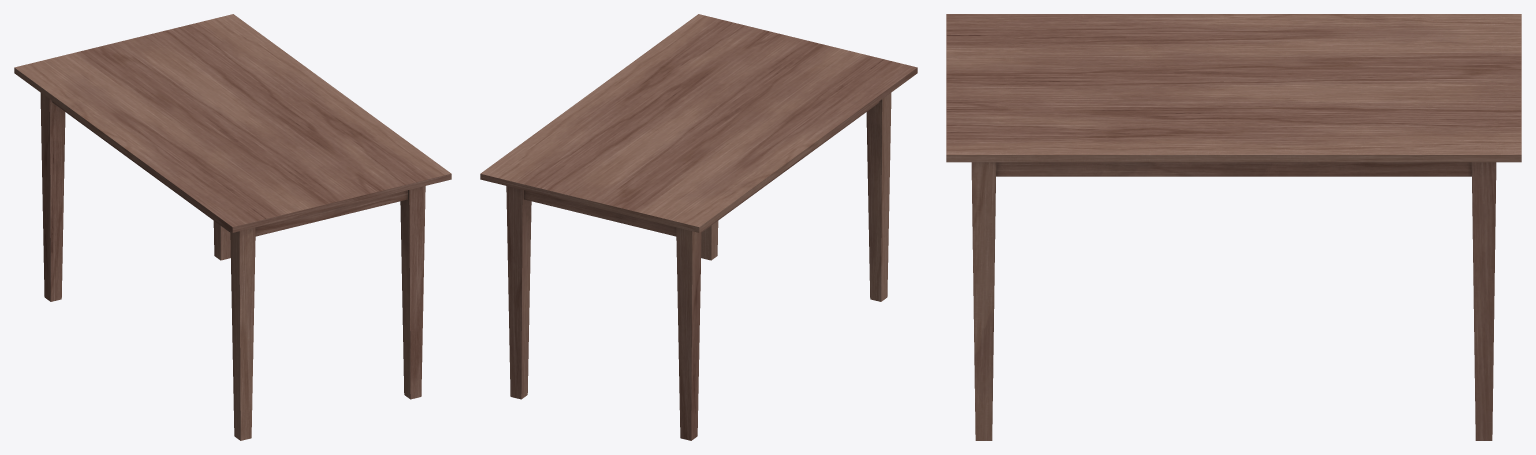
Rendered from rectangle_table.glb.
3 views of the same model, side by side, from view 1: azimuth 30°, elevation 25°; view 2: azimuth 150°, elevation 25°; view 3: azimuth 270°, elevation 25° (orthographic). The views are drawn at different scales.
Visible parts, largest first — view 1: Table01; view 2: Table01; view 3: Table01.
Boxes of the visible parts, x1,y1,x2,y2 form: Table01: (14, 14, 451, 440); Table01: (480, 14, 917, 440); Table01: (946, 14, 1521, 440).
Size of the model in its own units: 0.8 by 0.79 by 1.38.
Materials: 1 (1 with a texture image).
